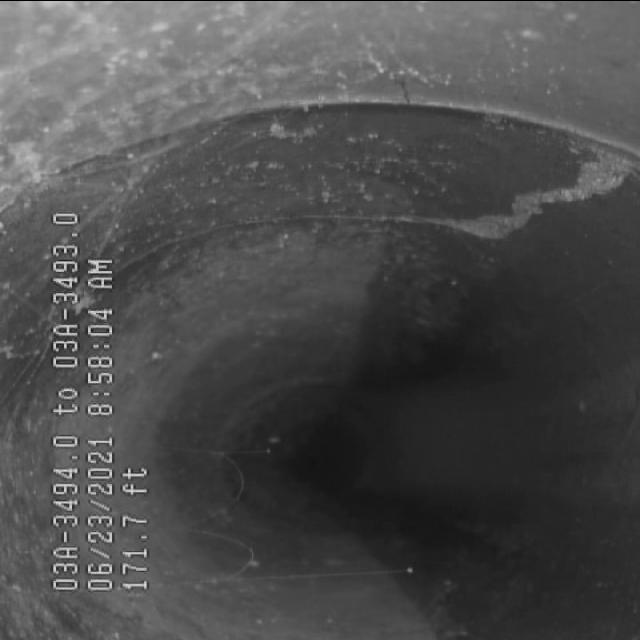Crack: (249, 159, 602, 261)
